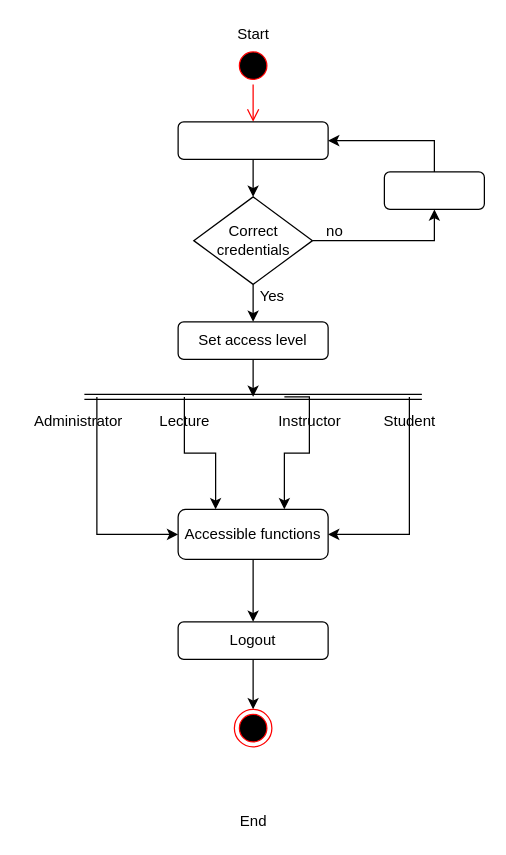
This 506x855 diagram has some shape labels left out. The shapes that lost their labels are listed below. From the top down, each one's centre as x and y in pixels, then its label:
At pixel 252 140: "Insert username & password".
At pixel 433 190: "Invalid".
